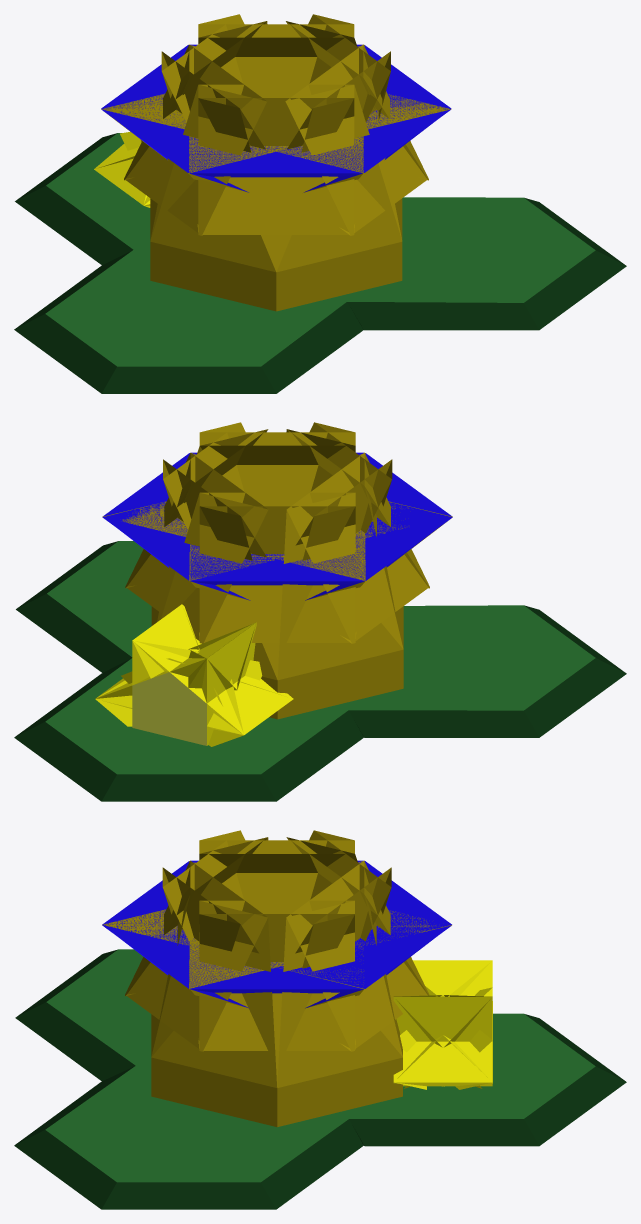
Rendered from BaseHexagon.glb.
The picture shows the model from 3 angles, top to bottom: view 1: azimuth 30°, elevation 25°; view 2: azimuth 150°, elevation 25°; view 3: azimuth 270°, elevation 25°; orthographic projection.
Visible parts, largest first — view 1: Torus, Circle, Circle.002, Circle.001, Cylinder; view 2: Torus, Circle, Circle.001, Cylinder, Circle.002; view 3: Torus, Circle.002, Circle.001, Cylinder, Circle.
Part boxes in pixels (x1,y1,x2,y2): Torus: [101, 14, 451, 311]; Circle: [14, 249, 363, 393]; Circle.002: [340, 197, 626, 330]; Circle.001: [15, 133, 150, 264]; Cylinder: [94, 132, 150, 207]; Torus: [102, 422, 452, 719]; Circle: [340, 605, 626, 737]; Circle.001: [14, 658, 363, 801]; Cylinder: [95, 604, 293, 746]; Circle.002: [16, 541, 151, 672]; Torus: [102, 830, 451, 1127]; Circle.002: [14, 1066, 363, 1209]; Circle.001: [340, 1013, 626, 1146]; Cylinder: [393, 960, 492, 1089]; Circle: [15, 949, 151, 1080].
Size of the model in its own units: 3.46 by 1.49 by 3.5.
